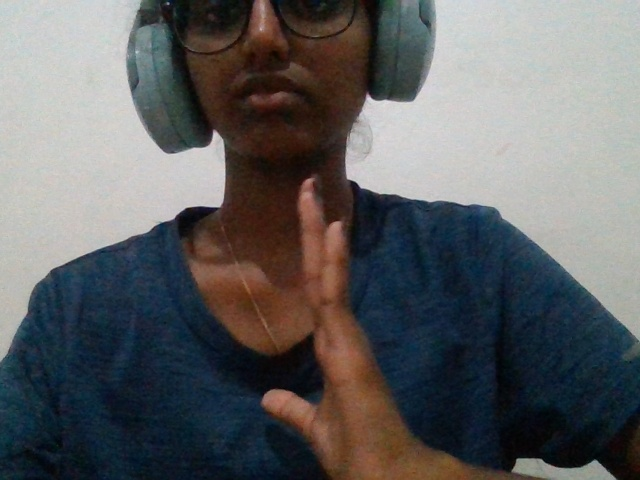Fine: (210, 143, 451, 480)
